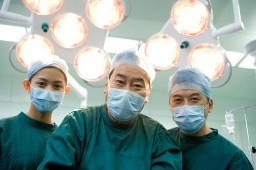correctlyWear: (103, 70, 151, 121), (168, 85, 213, 134), (22, 75, 69, 113)
